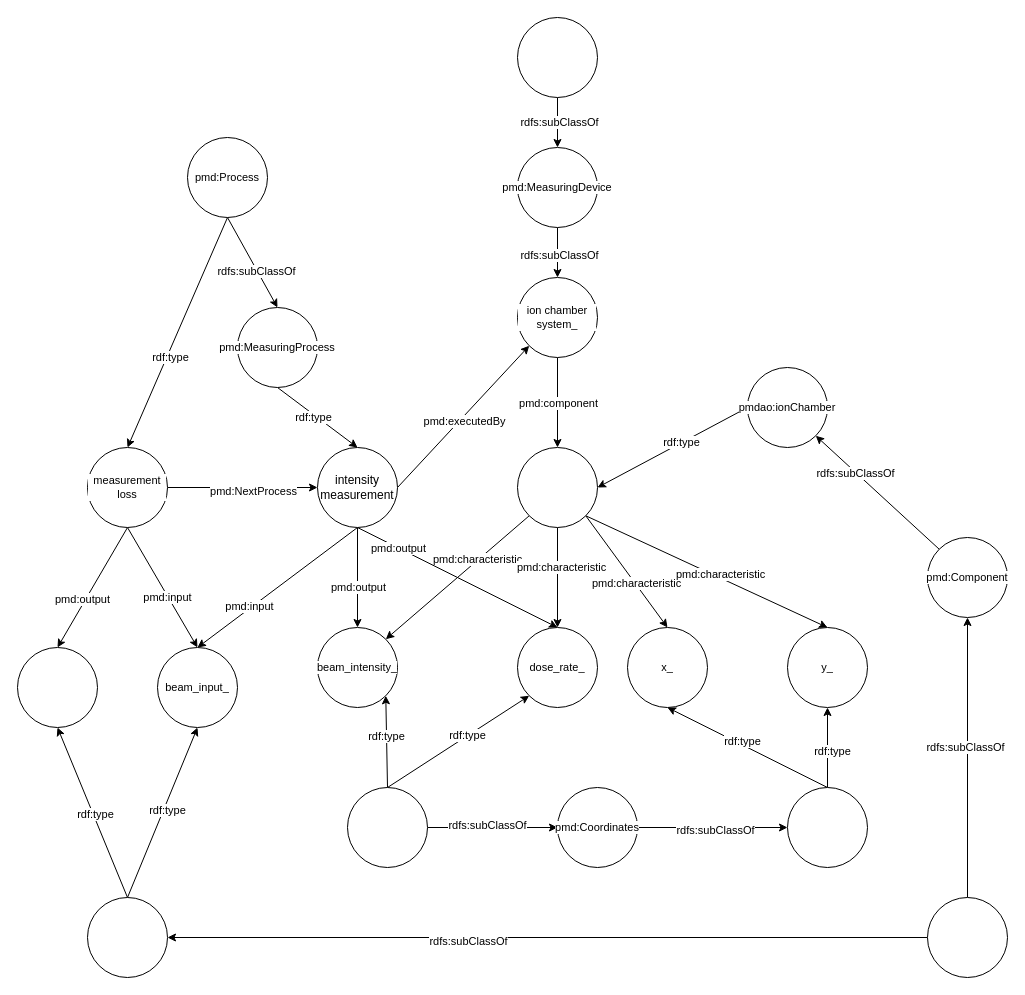
Image size: 1025x995. Some labels were removed from this diagram. The shapes that lost their labels are listed below. From the top down, each one's box as (x1, y1, x2, y2) in pixels, then its label:
(516, 16, 598, 98): pmd:ProcessingNode
(516, 446, 598, 528): ic_device_
(16, 646, 98, 728): beam_output_
(346, 786, 428, 868): pmd:ValueObject
(786, 786, 868, 868): mds:position
(86, 896, 168, 978): pmdao:beam
(926, 896, 1008, 978): pmd:Object
